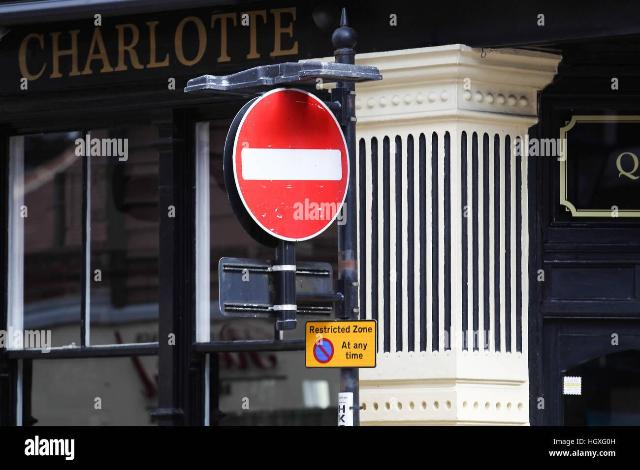B2: (223, 87, 351, 244)
